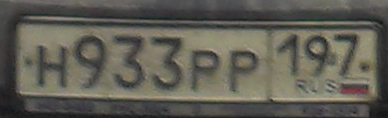character: (146, 30, 187, 93), (71, 30, 108, 92), (109, 30, 146, 92), (34, 41, 71, 93), (226, 47, 262, 95), (188, 46, 222, 94), (301, 32, 331, 81), (330, 33, 360, 78), (275, 32, 301, 80)
